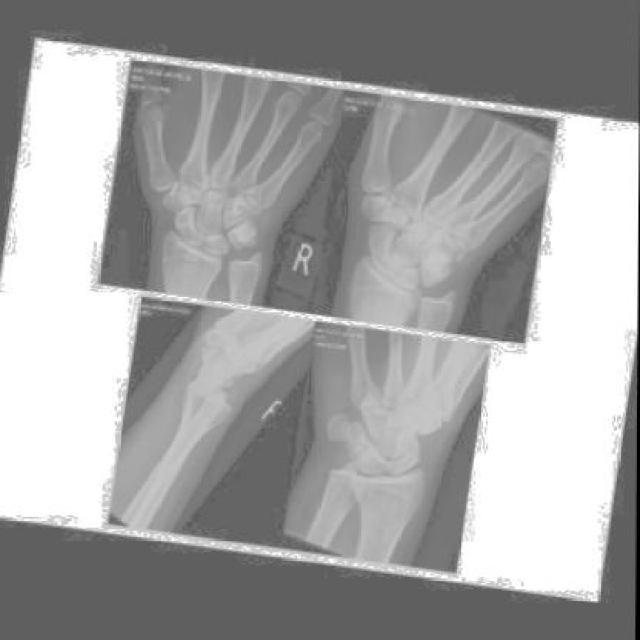Fracture: (417, 406, 447, 434), (446, 236, 474, 265), (233, 194, 253, 217), (245, 359, 264, 376)
